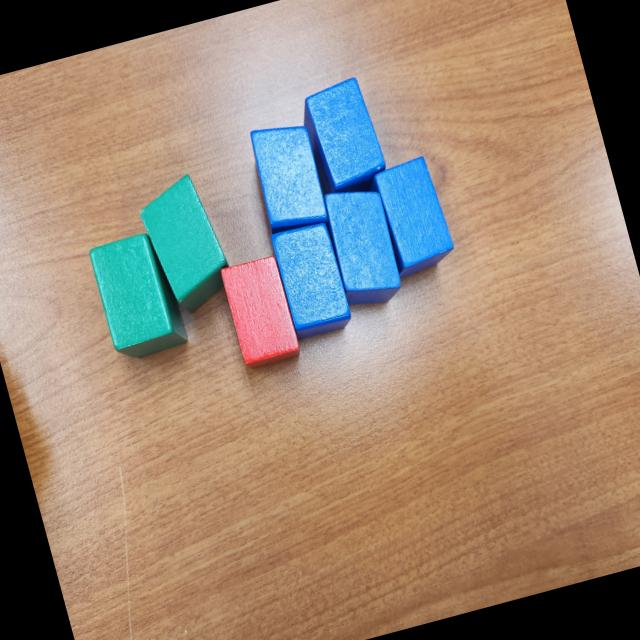blue: (290, 71, 392, 202), (316, 178, 408, 312), (369, 154, 460, 282), (242, 116, 334, 238), (267, 218, 356, 342)
green: (130, 167, 238, 321), (85, 228, 190, 366)
red: (214, 248, 306, 374)
